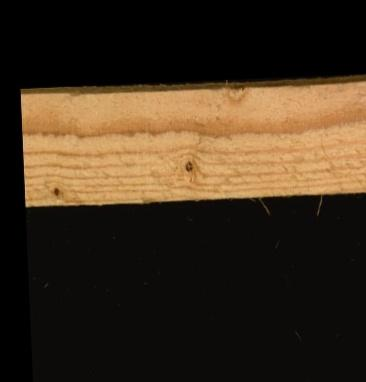edge_knot: (224, 80, 248, 105)
small_knot: (183, 158, 193, 172), (51, 185, 59, 196)
